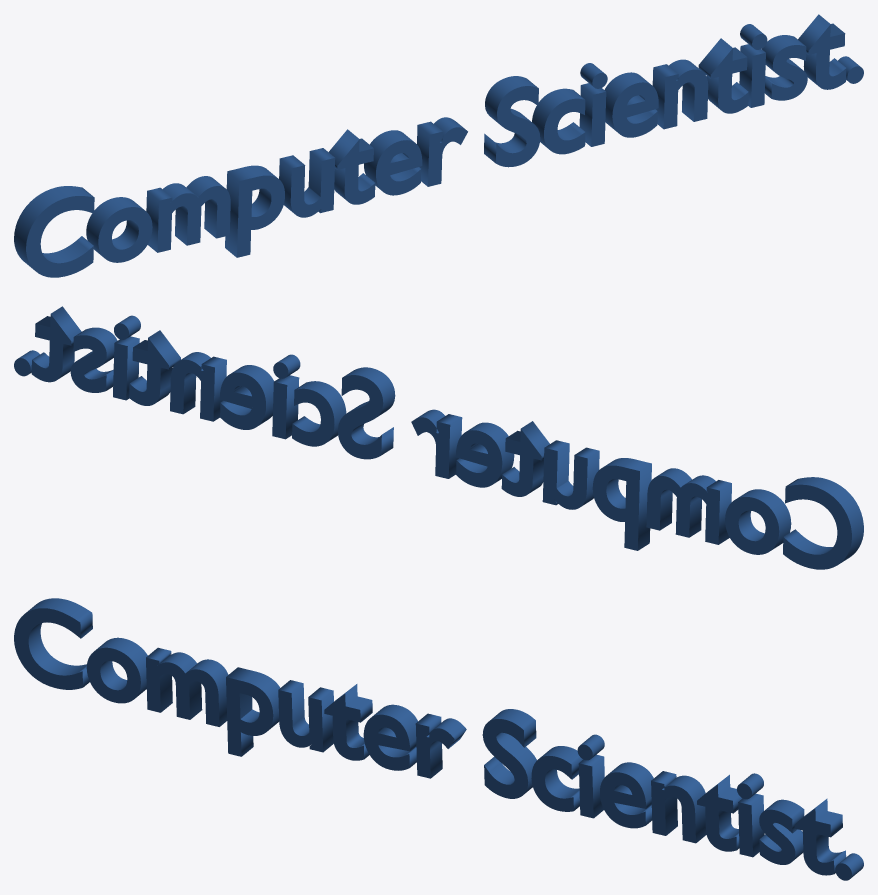
File: computerScientist.glb
3 renders of one model, top to bottom at view 1: azimuth 30°, elevation 25°; view 2: azimuth 150°, elevation 25°; view 3: azimuth 330°, elevation 25°, orthographic.
Parts seen in each view (by area): view 1: Text; view 2: Text; view 3: Text.
Boxes of the visible parts, box(x1,y1,x2,y2) form: Text: box(14, 14, 863, 277); Text: box(14, 306, 863, 569); Text: box(14, 598, 863, 880).
Size of the model in its own units: 8.04 by 0.9702 by 0.2505.
